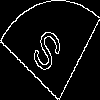S: (25, 25, 65, 84)
